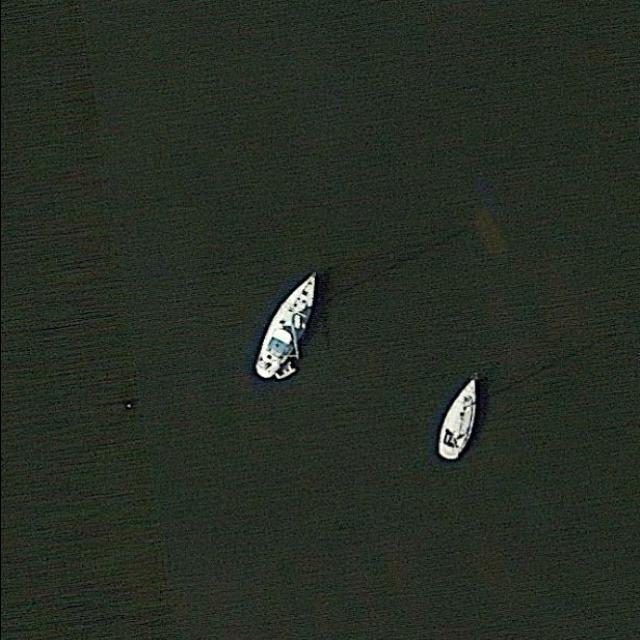ship: (252, 266, 322, 381), (432, 365, 483, 465)
